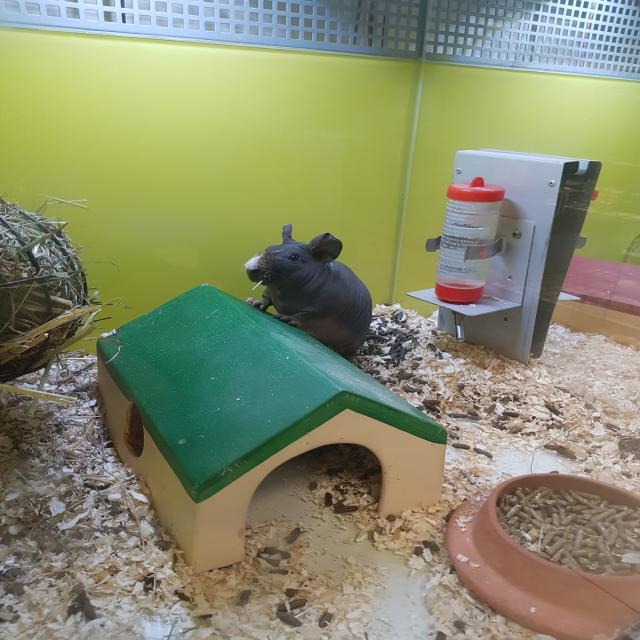guinea pig: (240, 221, 376, 365)
